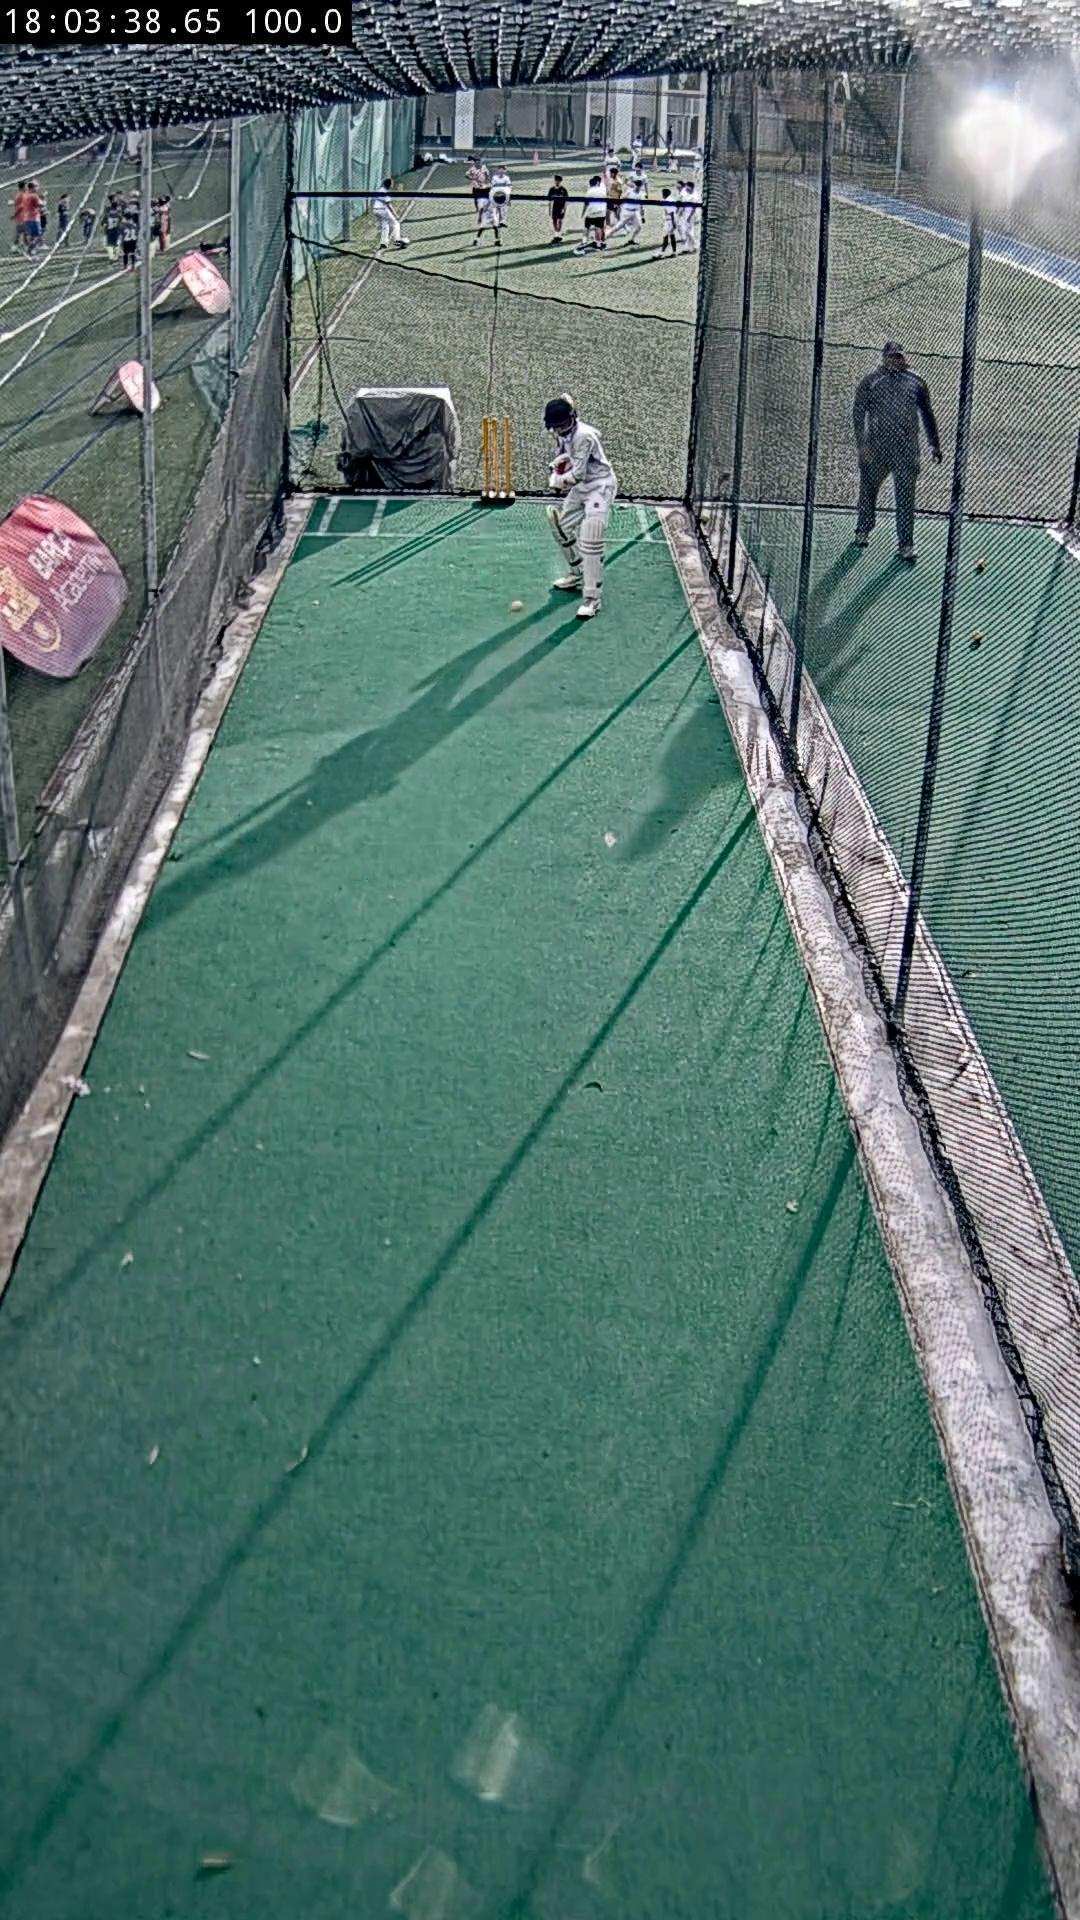ball: (510, 600, 525, 612)
helmet: (543, 394, 578, 431)
pads: (578, 517, 604, 599)
stumps: (480, 417, 514, 502)
